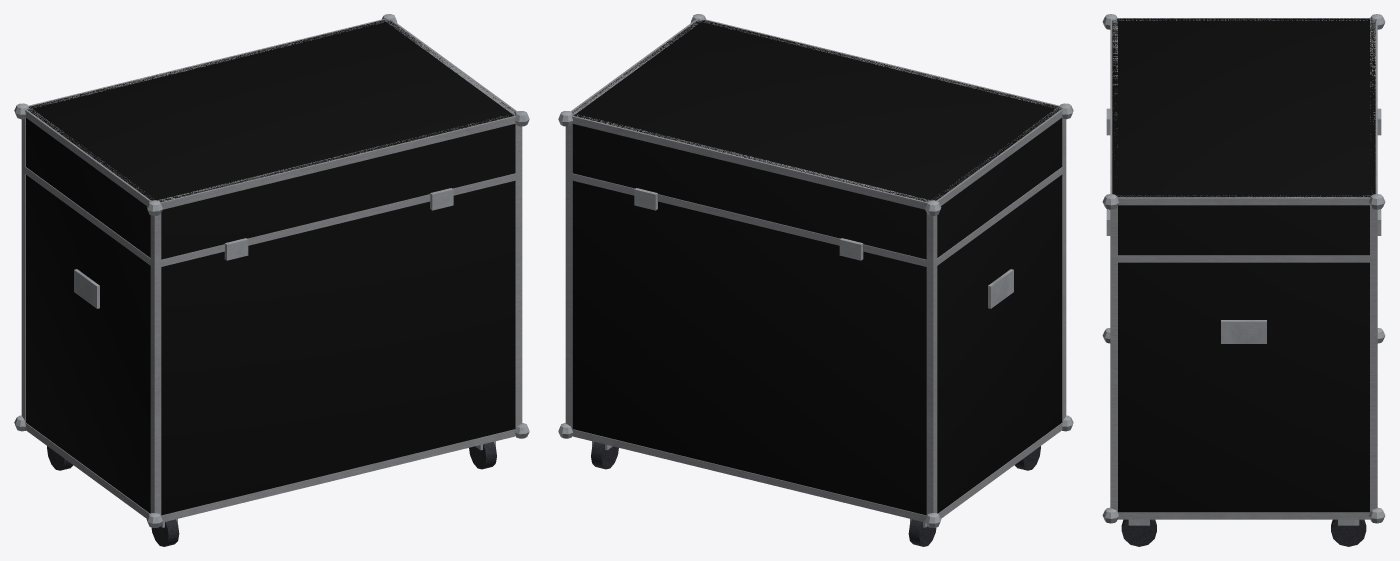
Rendered from road_case_large.gltf.
3 renders of one model, left to right at view 1: azimuth 30°, elevation 25°; view 2: azimuth 150°, elevation 25°; view 3: azimuth 270°, elevation 25°, orthographic.
Visible parts, largest first — view 1: road_case_large; view 2: road_case_large; view 3: road_case_large.
Part boxes in pixels (bbox=[...]): road_case_large: bbox=[14, 14, 529, 546]; road_case_large: bbox=[558, 14, 1073, 546]; road_case_large: bbox=[1102, 14, 1385, 546].
Size of the model in its own units: 1.25 by 1.13 by 0.798.
Materials: 4 (4 with a texture image).
